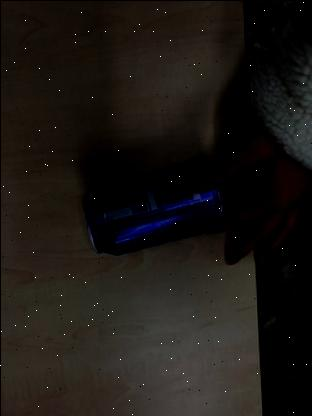Can: (80, 158, 229, 260)
